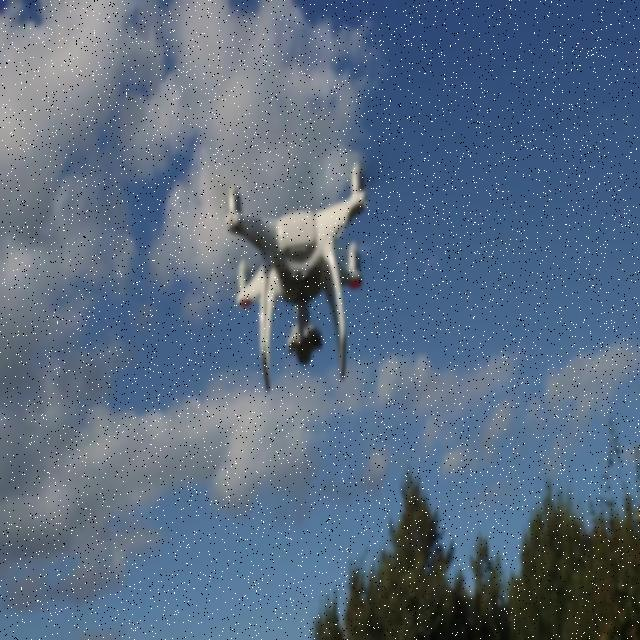UAV: (225, 160, 377, 395)
